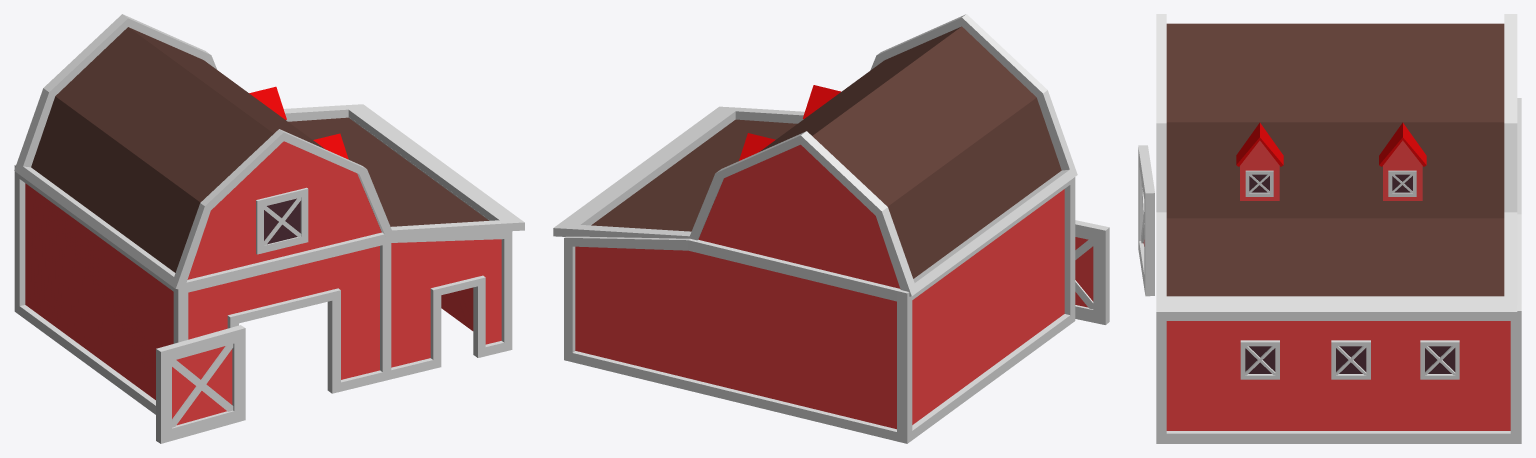
File: House_12.FBX
The picture shows the model from 3 angles, left to right: view 1: azimuth 30°, elevation 25°; view 2: azimuth 150°, elevation 25°; view 3: azimuth 270°, elevation 25°; orthographic projection. The views are drawn at different scales.
Parts seen in each view (by area): view 1: House_12; view 2: House_12; view 3: House_12.
Boxes of the visible parts, left/top/right/bottom form: House_12: left=14, top=14, right=524, bottom=443; House_12: left=553, top=14, right=1109, bottom=443; House_12: left=1138, top=14, right=1521, bottom=443.
Bounding box in the file's own units: 11.55 × 8.11 × 9.22.
Materials: 1 (1 with a texture image).
